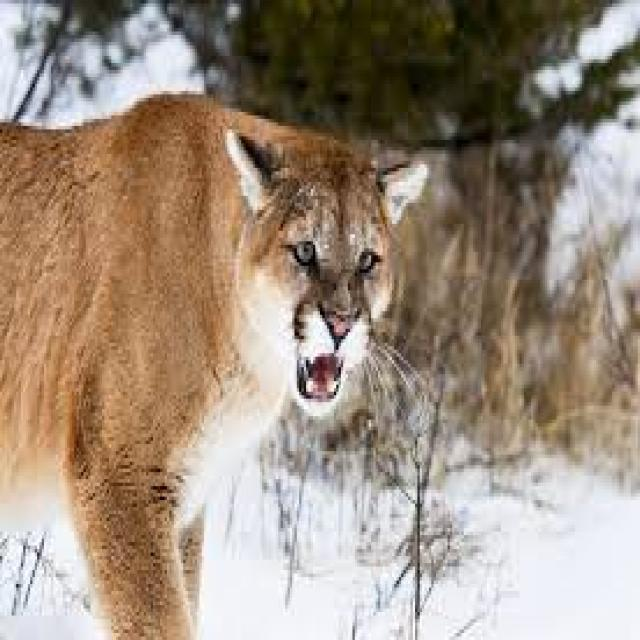Lion: (0, 95, 428, 637)
